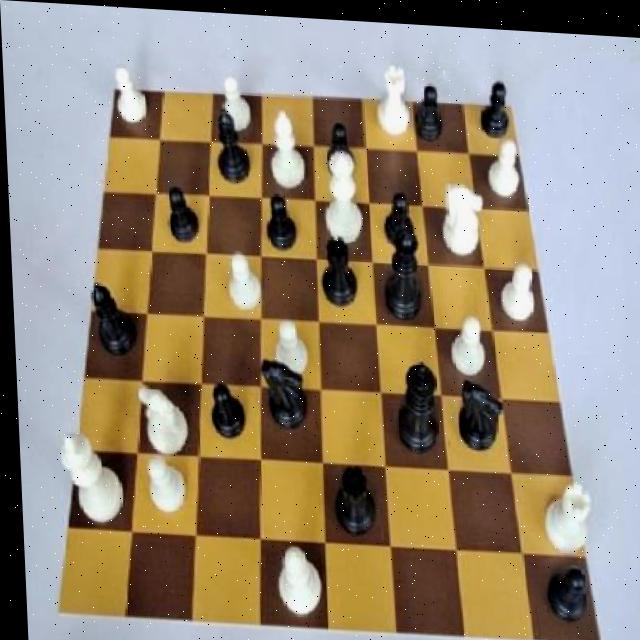bishop: (75, 268, 140, 364), (205, 102, 257, 191)
black-bishop: (390, 353, 443, 453)
black-king: (253, 345, 312, 439), (451, 366, 504, 463)
black-knight: (541, 544, 590, 633), (257, 182, 303, 258), (409, 62, 449, 141), (160, 175, 201, 252), (319, 109, 362, 180), (471, 65, 514, 136), (375, 182, 420, 249), (204, 377, 246, 445)
black-pawn: (381, 222, 427, 319)
black-queen: (323, 446, 382, 543), (312, 225, 359, 306)
black-rook: (266, 538, 323, 627), (260, 102, 311, 189)
white-bishop: (52, 423, 126, 531)
white-king: (131, 369, 190, 456), (439, 172, 484, 259)
white-knight: (491, 245, 540, 331), (445, 297, 488, 385), (140, 443, 189, 520), (106, 57, 155, 127), (482, 127, 523, 210), (216, 67, 261, 135), (266, 313, 310, 379), (223, 244, 260, 317)
white-pawn: (321, 144, 367, 255)
white-queen: (537, 466, 591, 558), (368, 57, 413, 131)
